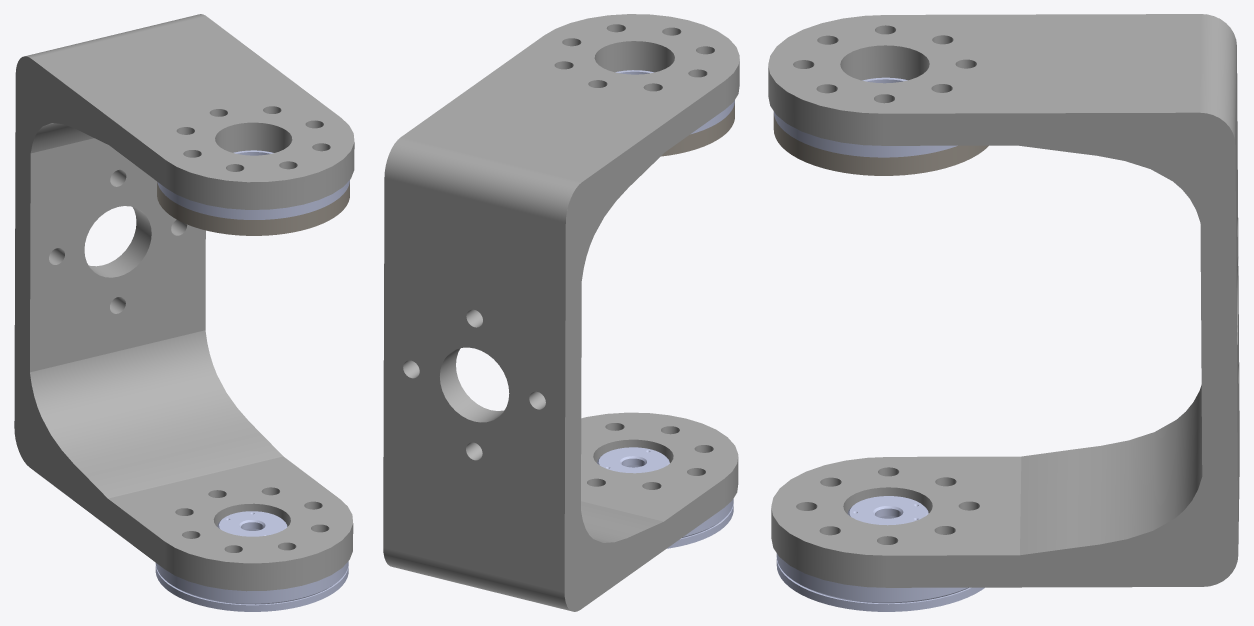
The picture shows the model from 3 angles, left to right: view 1: azimuth 30°, elevation 25°; view 2: azimuth 150°, elevation 25°; view 3: azimuth 270°, elevation 25°; orthographic projection. The views are drawn at different scales.
Parts seen in each view (by area): view 1: Cut_Extrude3_DC_Shell, NONE_DC_Shell, Cut_Extrude4_DC_Shell, Cut_Extrude1_DC_Shell; view 2: Cut_Extrude3_DC_Shell, NONE_DC_Shell, Cut_Extrude4_DC_Shell; view 3: Cut_Extrude3_DC_Shell, NONE_DC_Shell, Cut_Extrude4_DC_Shell, Cut_Extrude1_DC_Shell.
Part boxes in pixels (<box>): Cut_Extrude3_DC_Shell: <box>14,14,354,591</box>; NONE_DC_Shell: <box>155,511,348,611</box>; Cut_Extrude4_DC_Shell: <box>157,182,349,235</box>; Cut_Extrude1_DC_Shell: <box>157,150,349,219</box>; Cut_Extrude3_DC_Shell: <box>383,14,739,611</box>; NONE_DC_Shell: <box>597,447,733,548</box>; Cut_Extrude4_DC_Shell: <box>661,103,734,156</box>; Cut_Extrude3_DC_Shell: <box>768,14,1239,587</box>; NONE_DC_Shell: <box>776,496,984,611</box>; Cut_Extrude4_DC_Shell: <box>773,113,988,175</box>; Cut_Extrude1_DC_Shell: <box>773,77,957,157</box>.
Bounding box in the file's own units: 23.22 × 54.61 × 46.42.
